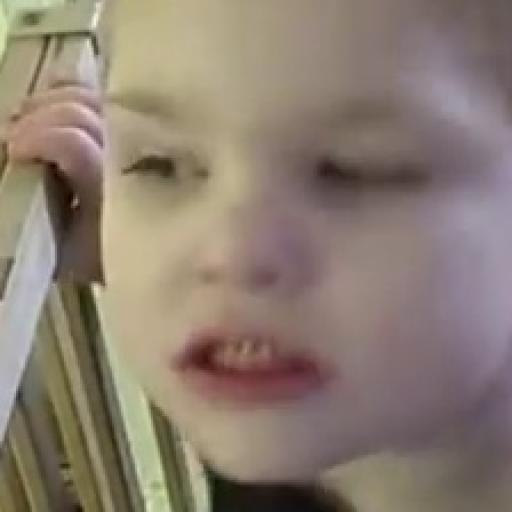Autism: (76, 1, 512, 512)
